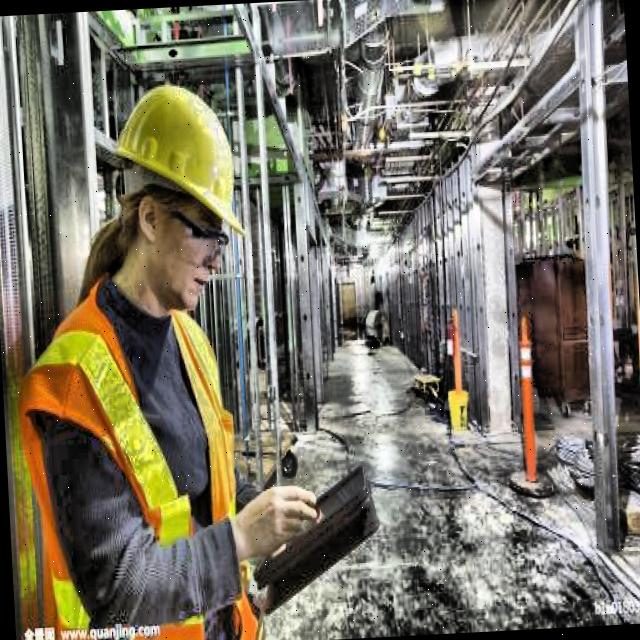helmet: (82, 55, 261, 328)
